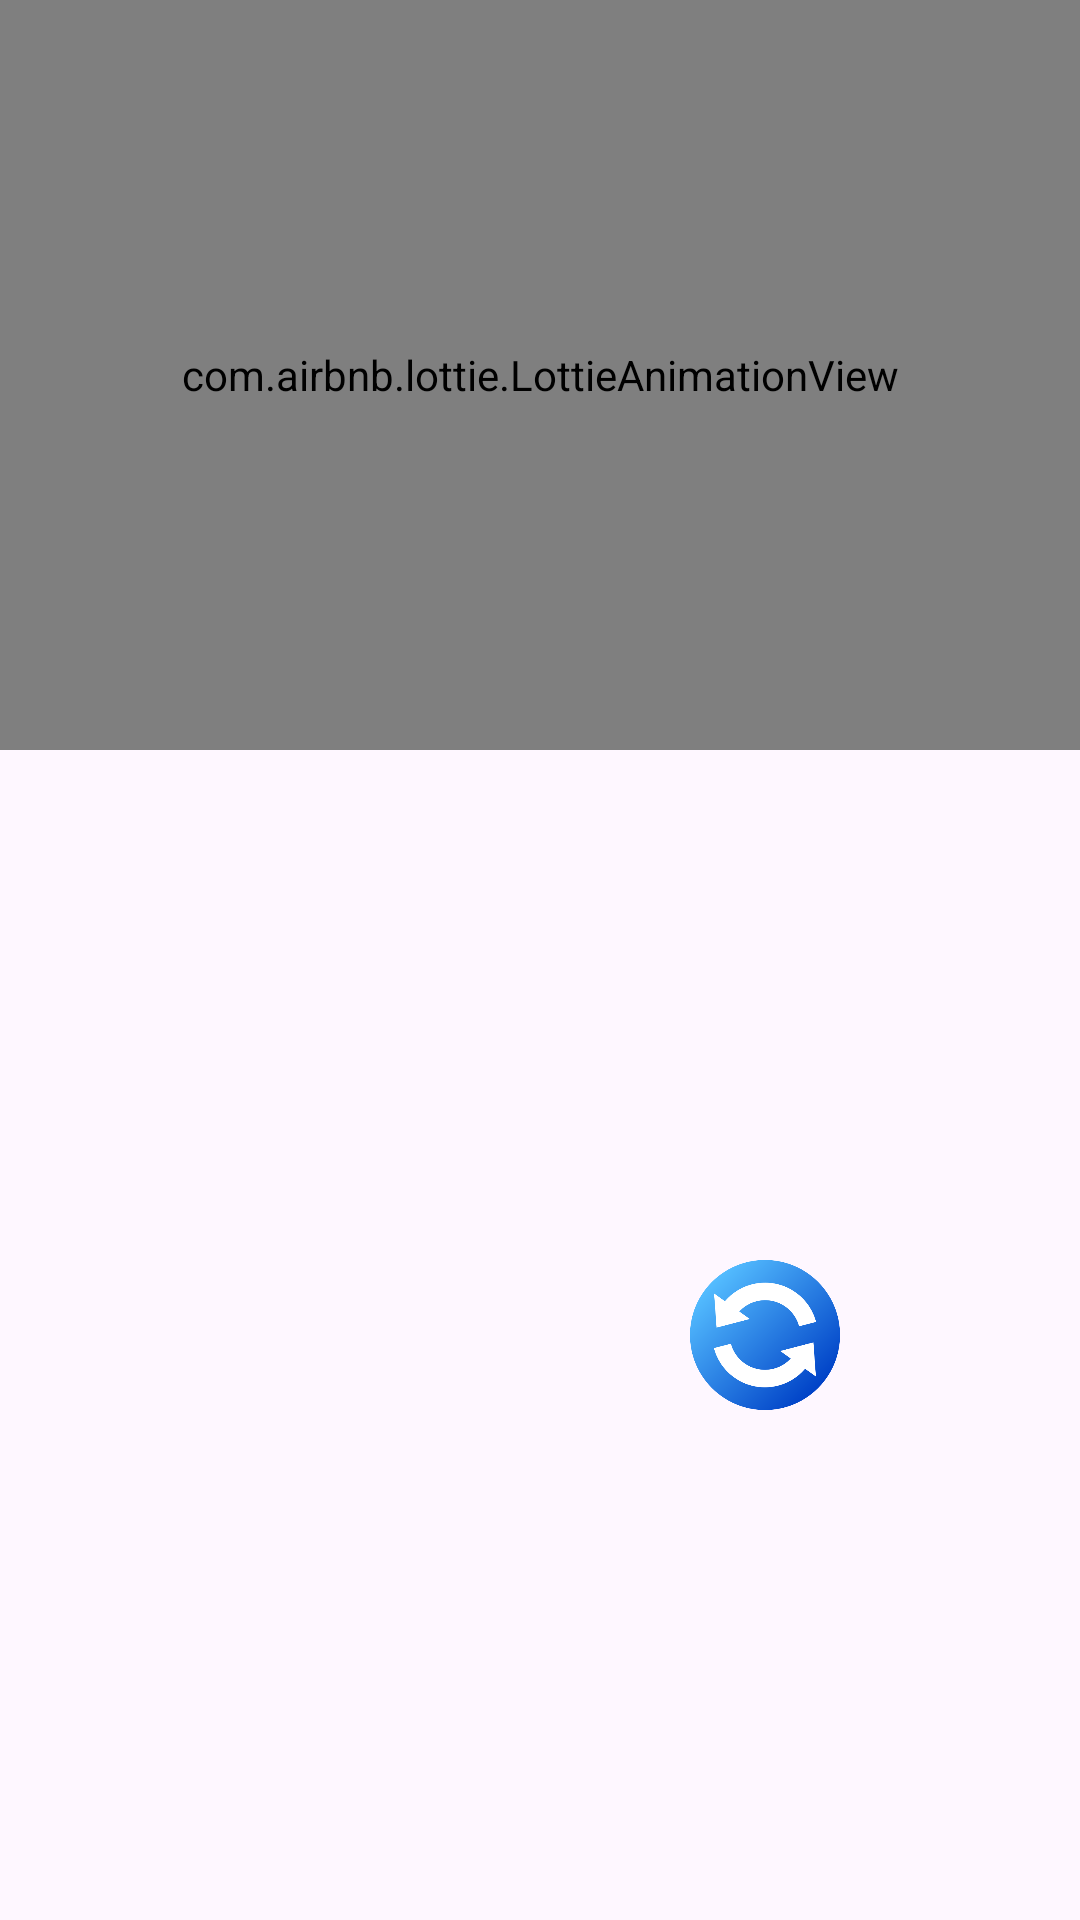

Where icons sit on this 1080x1920 app screen, as (x1, y1, x2, y2):
loading: (690, 1260, 840, 1410)
